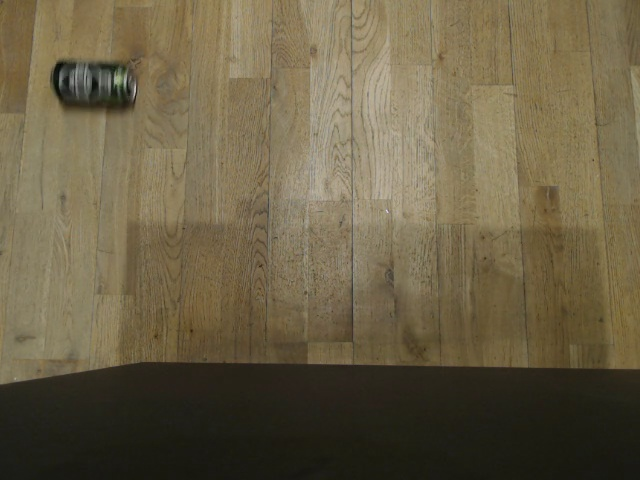beer: (46, 57, 142, 111)
